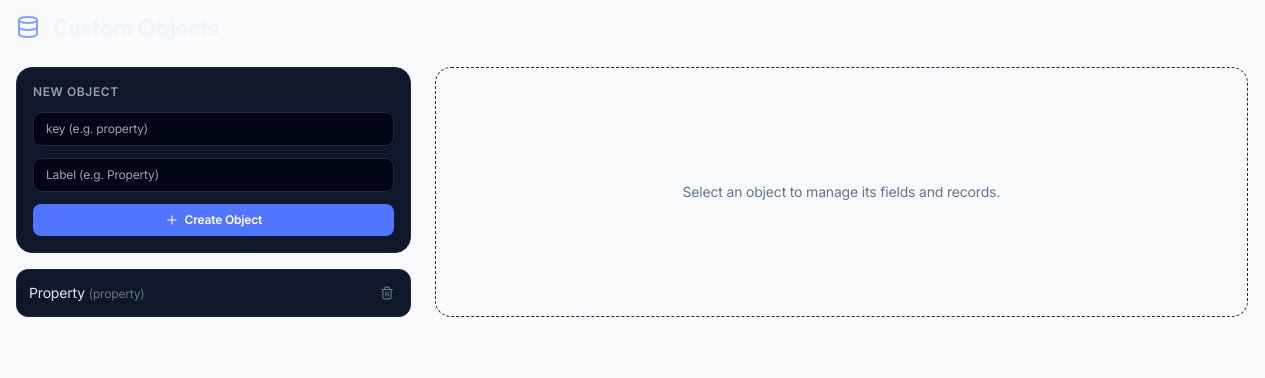
Scenario: CustomObjectsPage › surfaces a delete-protection error from the API
The image size is (1265, 378).
Check: the text "Property (property)" is shown, box [29,283,144,303]
# delete button lives inside the object's row, next to its label
Step 1. Click the 2nd button → (387, 293), box [376,282,398,304]
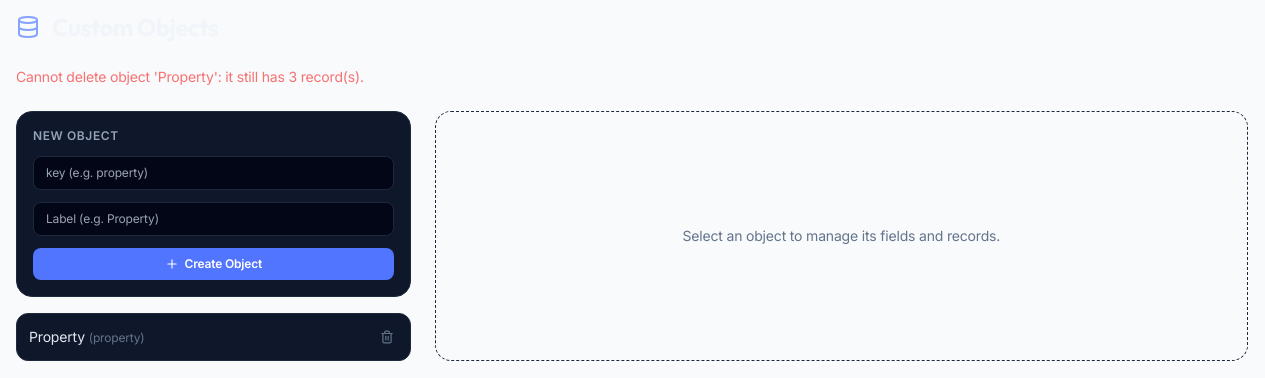
Check: the text "Cannot delete object 'Property': it still has 3 record(s)." is shown, box [16,68,364,85]
